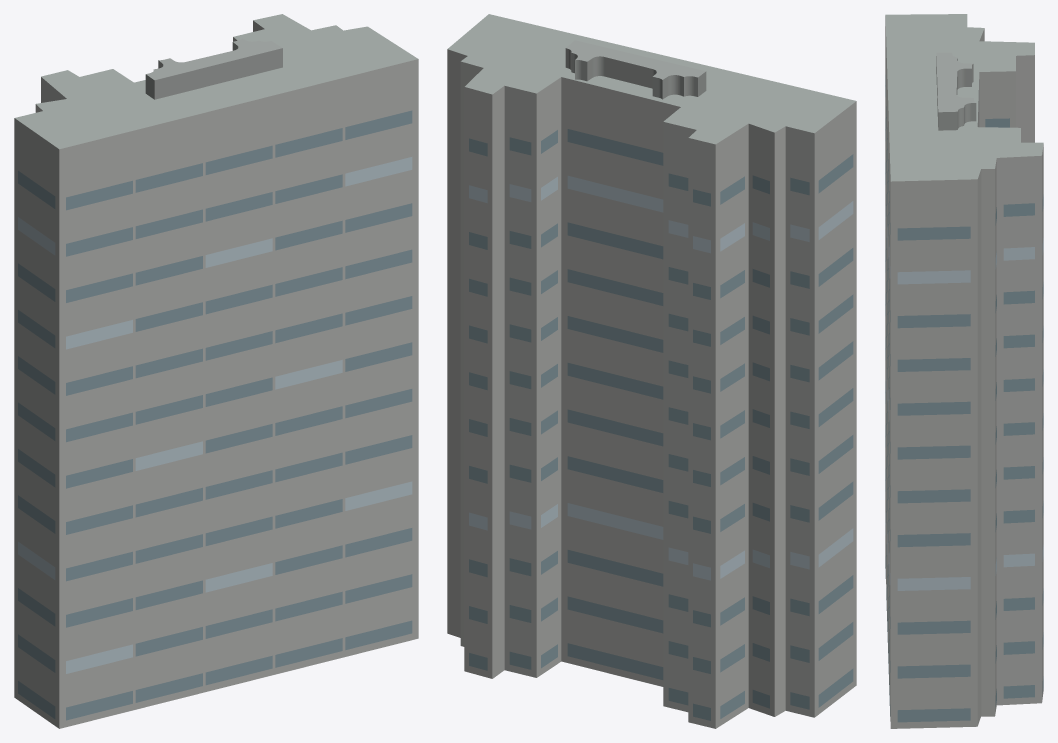
Rendered from fallback-godeok-central-ipark-506.glb.
3 renders of one model, left to right at view 1: azimuth 30°, elevation 25°; view 2: azimuth 150°, elevation 25°; view 3: azimuth 270°, elevation 25°, orthographic. The views are drawn at different scales.
Parts seen in each view (by area): view 1: fallback-godeok-central-ipark-506; view 2: fallback-godeok-central-ipark-506; view 3: fallback-godeok-central-ipark-506.
Part boxes in pixels (bbox=[...]): fallback-godeok-central-ipark-506: bbox=[14, 14, 418, 728]; fallback-godeok-central-ipark-506: bbox=[447, 14, 856, 728]; fallback-godeok-central-ipark-506: bbox=[885, 14, 1043, 728].
Size of the model in its own units: 47.01 by 74 by 18.8.
